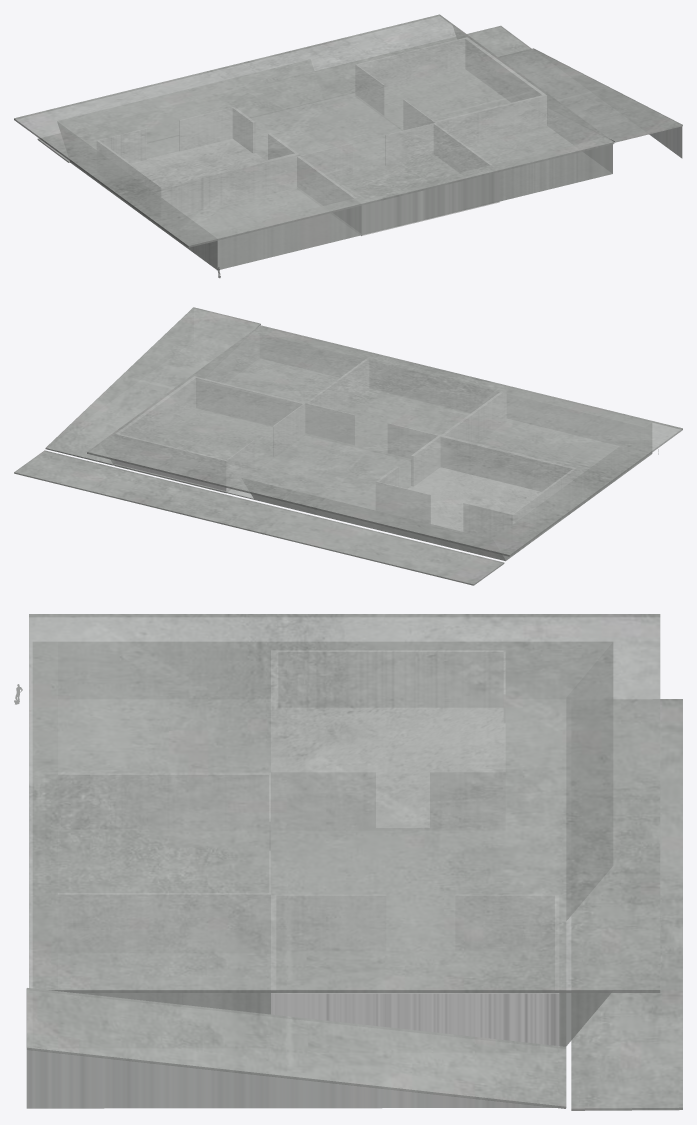
File: arquitectura.obj
3 renders of one model, top to bottom at view 1: azimuth 30°, elevation 25°; view 2: azimuth 150°, elevation 25°; view 3: azimuth 270°, elevation 25°, orthographic. The views are drawn at different scales.
Visible parts, largest first — view 1: PLAFON, SinPlafon, salas2; view 2: PLAFON, SinPlafon, salas2; view 3: PLAFON, SinPlafon, salas2.
Boxes of the visible parts, box(x1,y1,x2,y2) form: PLAFON: box(14, 14, 614, 247); SinPlafon: box(37, 25, 682, 278); salas2: box(97, 38, 546, 235); PLAFON: box(87, 325, 682, 556); SinPlafon: box(14, 307, 658, 585); salas2: box(115, 360, 576, 538); PLAFON: box(29, 614, 660, 992); SinPlafon: box(14, 642, 682, 1110); salas2: box(58, 651, 559, 1045).
Size of the model in its own units: 66.45 by 4.87 by 43.11.
2 materials, 2 textured.
